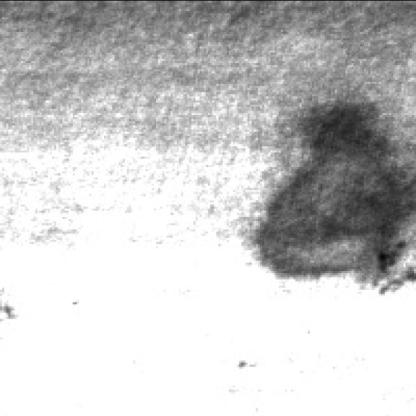patches: (262, 106, 416, 281)
